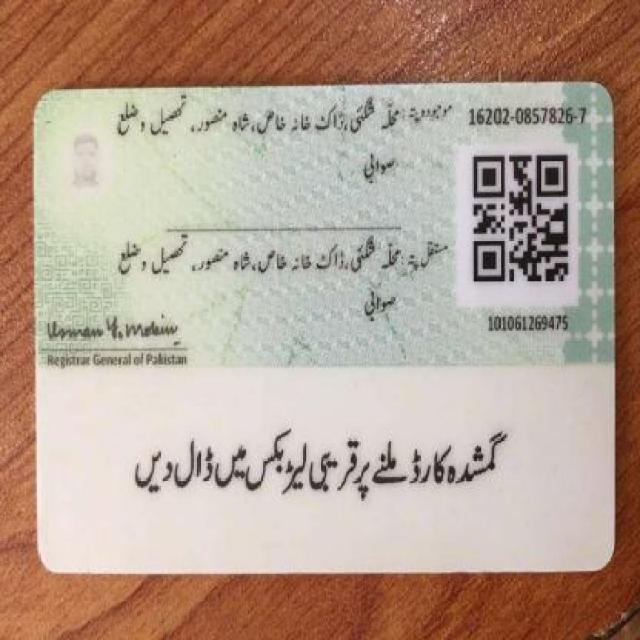Back: (25, 80, 620, 575)
